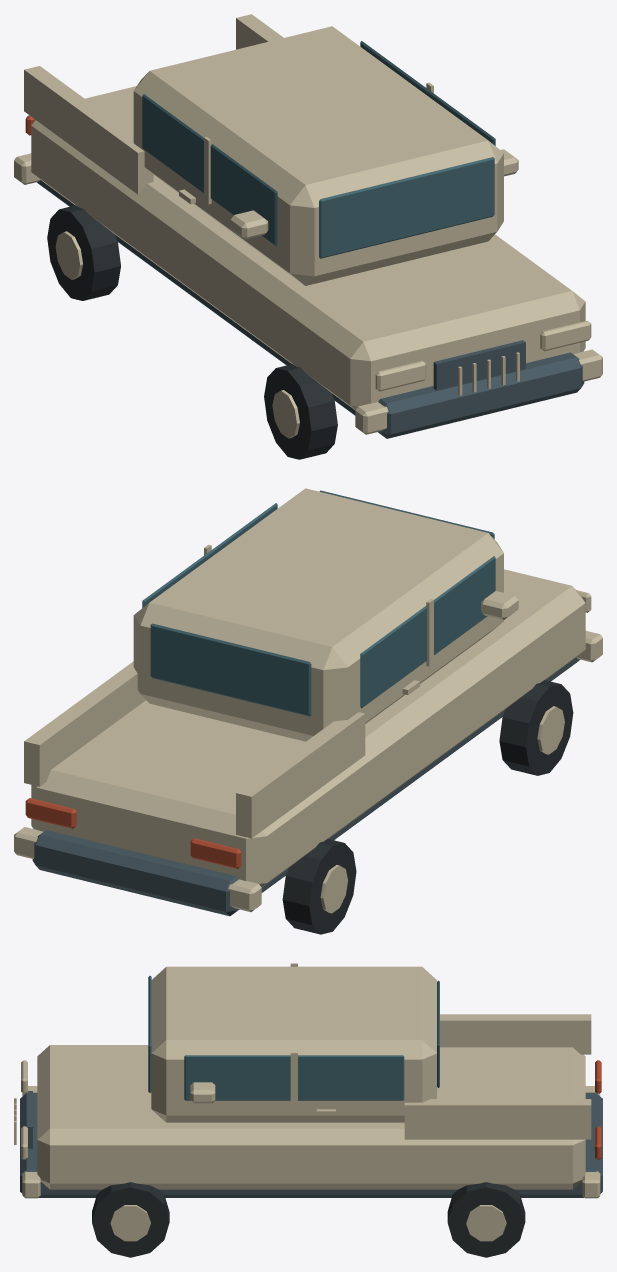
Rendered from vehicle_pickup.glb.
The picture shows the model from 3 angles, top to bottom: view 1: azimuth 30°, elevation 25°; view 2: azimuth 150°, elevation 25°; view 3: azimuth 270°, elevation 25°; orthographic projection. The views are drawn at different scales.
Visible parts, largest first — view 1: vehicle_pickup; view 2: vehicle_pickup; view 3: vehicle_pickup.
Part boxes in pixels (box(x1,y1,x2,y2)): vehicle_pickup: box(14, 14, 602, 459); vehicle_pickup: box(14, 488, 602, 934); vehicle_pickup: box(14, 963, 602, 1257).
Bounding box in the file's own units: 2.29 × 1.95 × 5.15.
